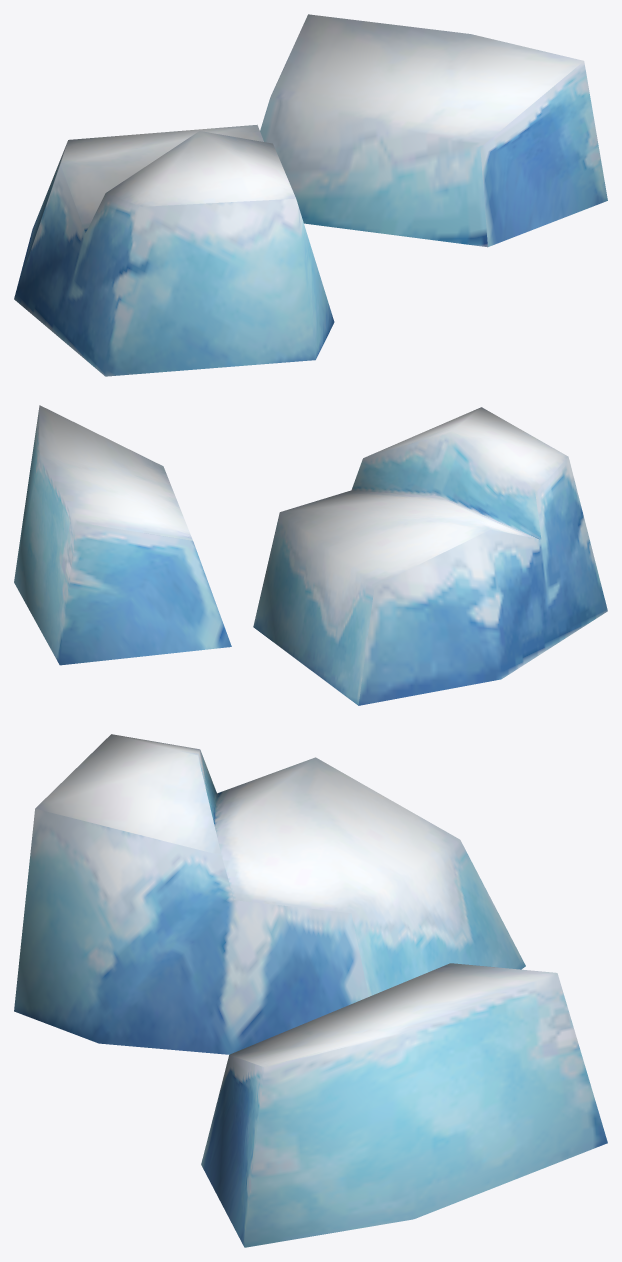
File: SM_stoneB_20.fbx
The picture shows the model from 3 angles, top to bottom: view 1: azimuth 30°, elevation 25°; view 2: azimuth 150°, elevation 25°; view 3: azimuth 270°, elevation 25°; orthographic projection. The views are drawn at different scales.
Parts seen in each view (by area): view 1: SM_stoneB_20; view 2: SM_stoneB_20; view 3: SM_stoneB_20.
Part boxes in pixels (<box>): SM_stoneB_20: <box>14,14,607,376</box>; SM_stoneB_20: <box>14,405,607,705</box>; SM_stoneB_20: <box>14,734,607,1247</box>.
Bounding box in the file's own units: 2.04 × 0.6576 × 1.51.
